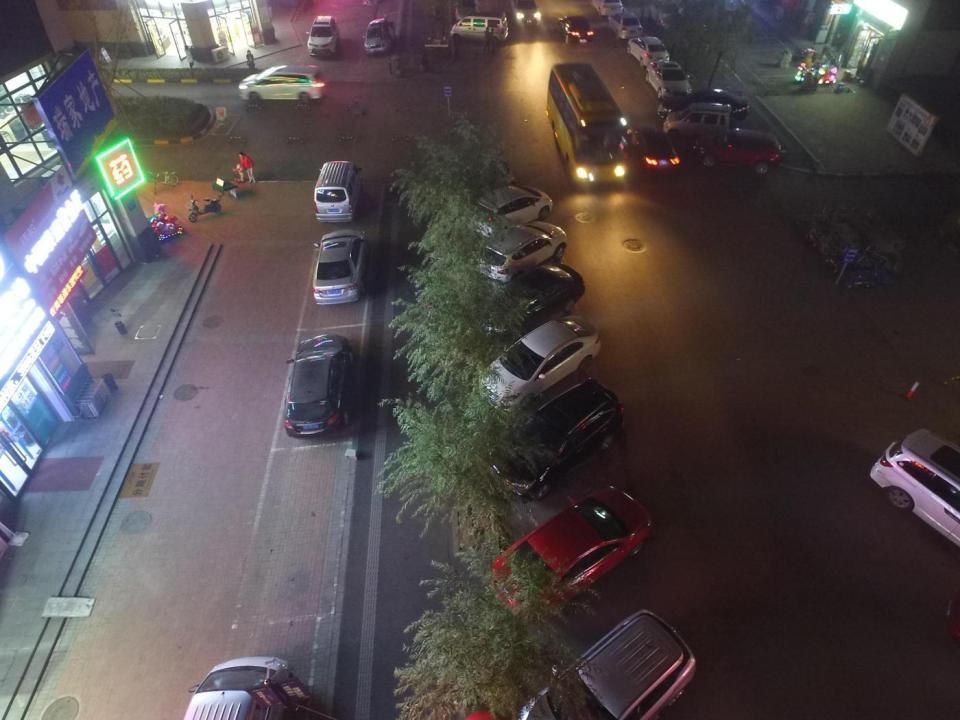bus: (546, 63, 627, 185)
car: (488, 486, 650, 620), (478, 315, 600, 410), (472, 262, 586, 335), (283, 334, 355, 437), (476, 220, 567, 284), (436, 155, 515, 222), (468, 185, 552, 238), (312, 228, 368, 305), (690, 128, 780, 174), (657, 88, 749, 122), (628, 122, 679, 173), (663, 102, 731, 139), (645, 60, 693, 101), (626, 36, 669, 66), (363, 18, 392, 54), (558, 16, 593, 44), (649, 1, 682, 30), (608, 13, 642, 39), (510, 0, 541, 27), (453, 1, 480, 22), (589, 0, 622, 16)
van: (516, 609, 695, 720), (487, 378, 622, 500), (868, 428, 960, 550), (183, 657, 296, 720), (239, 64, 325, 103), (314, 160, 363, 224), (450, 10, 507, 43), (306, 15, 339, 56)
